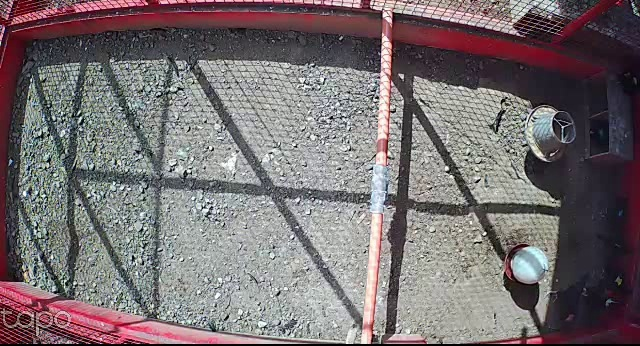Chicken: (543, 270, 590, 331)
Drinker: (503, 242, 550, 285)
Feeder: (525, 101, 576, 165)
